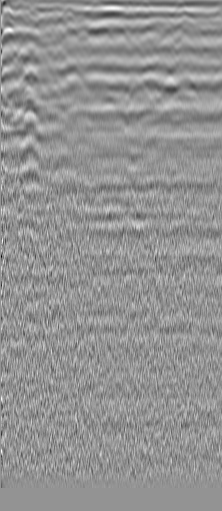오수: (21, 28, 41, 48)
우수: (175, 16, 195, 36)
